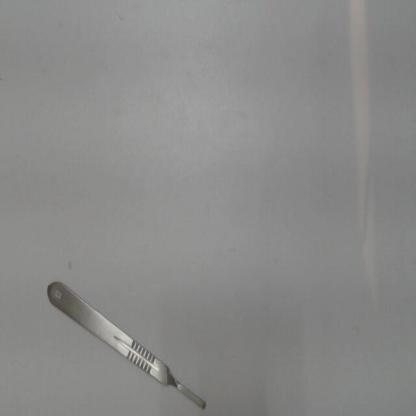No.4 BP Handle: (42, 266, 212, 414)
